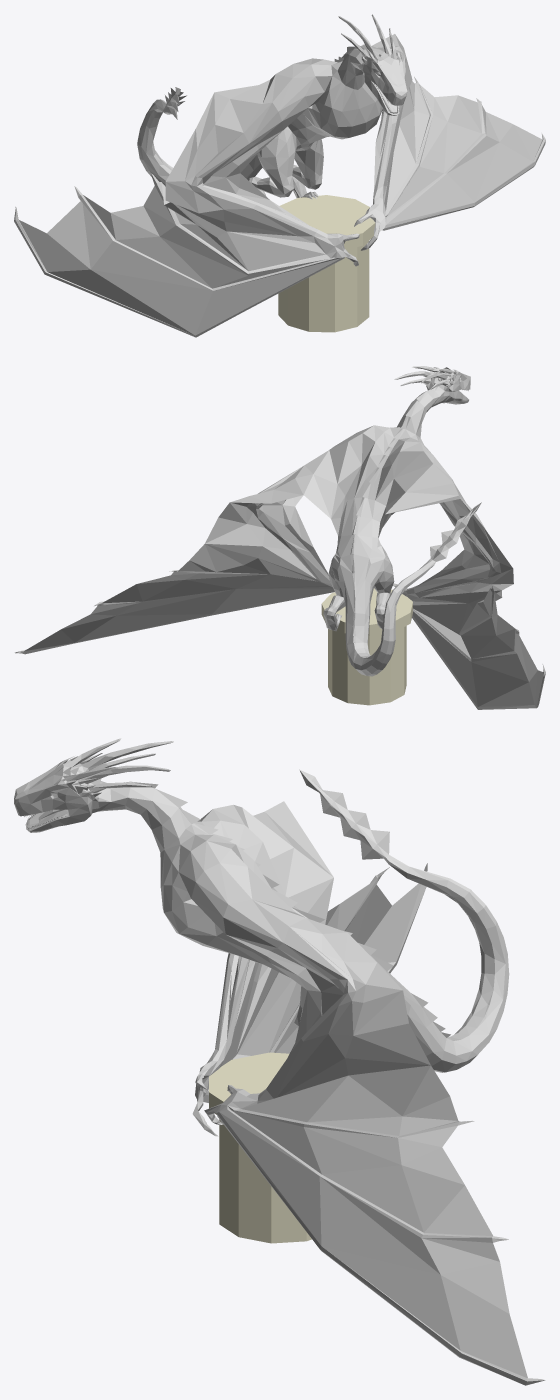
Rendered from dragon17_toEsculture_1.1.fbx.
The picture shows the model from 3 angles, top to bottom: view 1: azimuth 30°, elevation 25°; view 2: azimuth 150°, elevation 25°; view 3: azimuth 270°, elevation 25°; orthographic projection. The views are drawn at different scales.
Parts seen in each view (by area): view 1: Dragon, Base; view 2: Dragon, Base; view 3: Dragon, Base.
Boxes of the visible parts, x1,y1,x2,y2 form: Dragon: (14,14,545,337); Base: (278,195,375,332); Dragon: (15,366,545,709); Base: (321,588,412,705); Dragon: (14,738,545,1385); Base: (209,1052,311,1243).
Bounding box in the file's own units: 1436 × 799 × 836.
